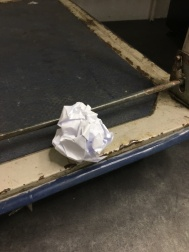paper_white: (46, 96, 116, 173)
